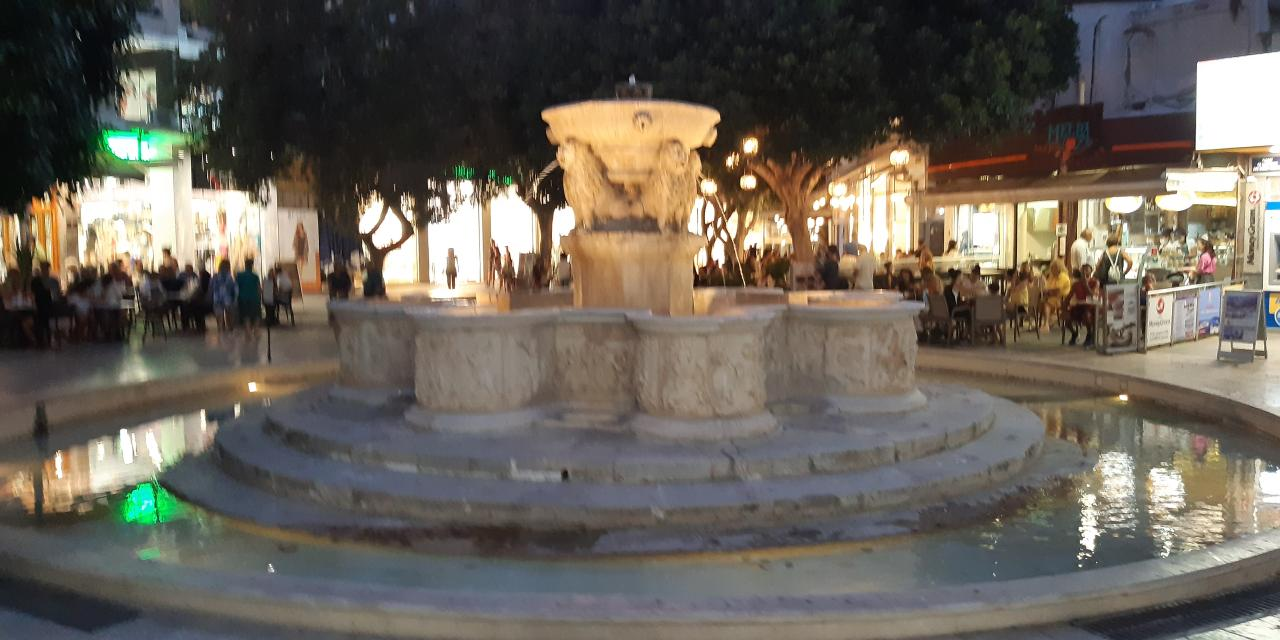Liontaria: (328, 87, 932, 421)
